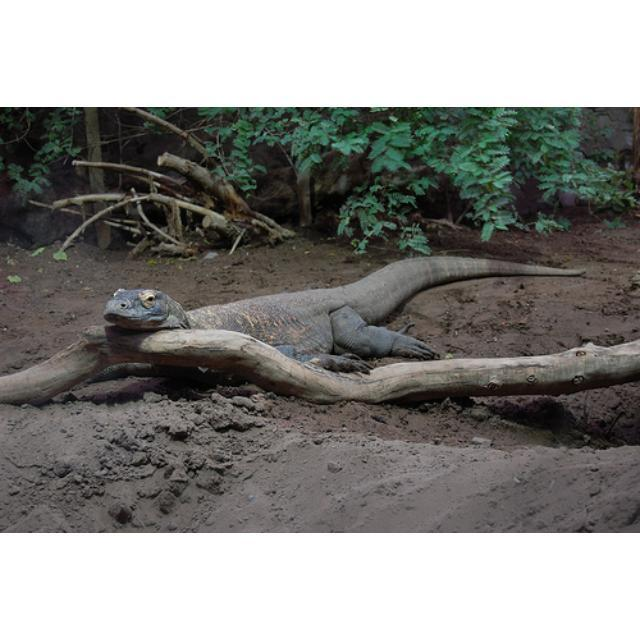KomodoDragon: (2, 248, 589, 382)
